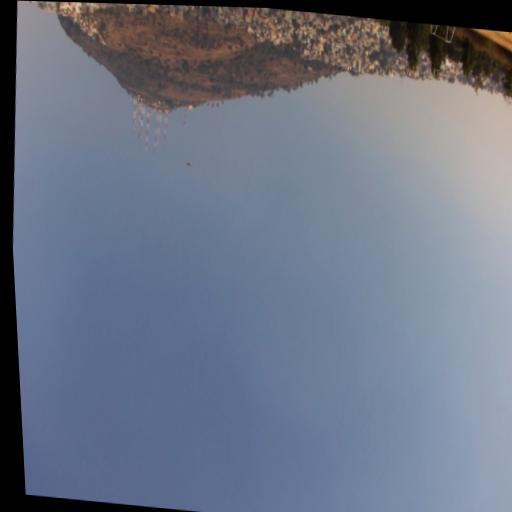drones: (185, 161, 193, 167)
